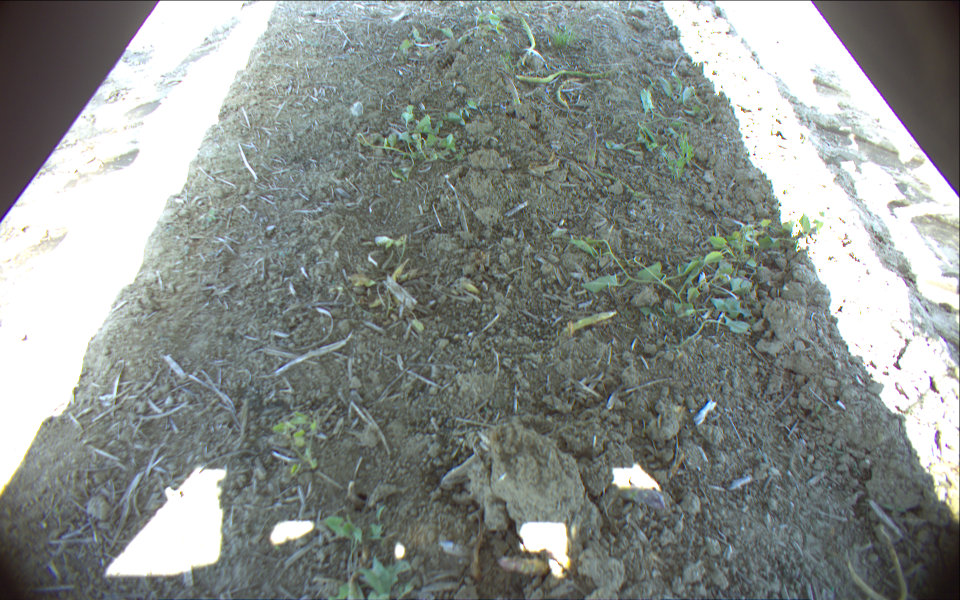aspa: (514, 69, 616, 84), (511, 12, 538, 68), (566, 309, 620, 333), (554, 78, 590, 108), (505, 76, 520, 109), (586, 125, 597, 168)
